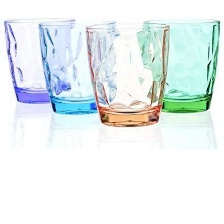glass: (82, 18, 171, 131), (140, 12, 222, 121), (36, 17, 120, 118), (2, 15, 82, 108)
